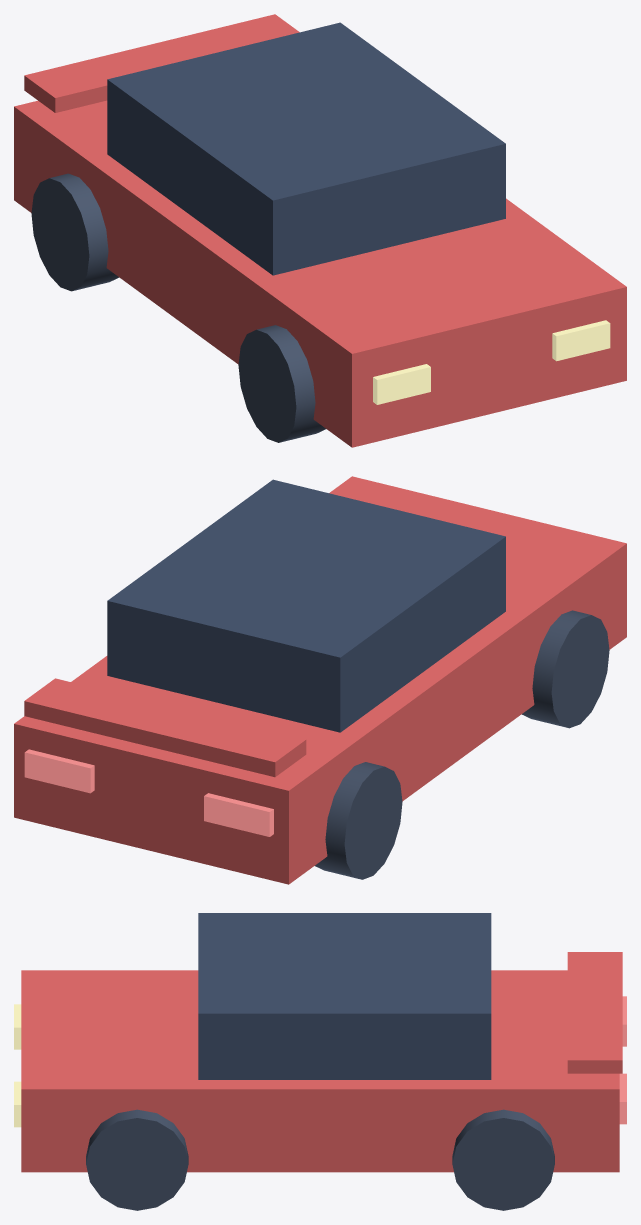
Rendered from car_2.glb.
The picture shows the model from 3 angles, top to bottom: view 1: azimuth 30°, elevation 25°; view 2: azimuth 150°, elevation 25°; view 3: azimuth 270°, elevation 25°; orthographic projection. The views are drawn at different scales.
Visible parts, largest first — view 1: chassis, cabin, spoiler, wheel_0, wheel_2, headlight_1, headlight_0; view 2: chassis, cabin, spoiler, wheel_2, wheel_0, taillight_1, taillight_0; view 3: chassis, cabin, wheel_1, wheel_3, spoiler.
Boxes of the visible parts, left/top/right/bottom form: chassis: left=14, top=100, right=626, bottom=447; cabin: left=107, top=22, right=505, bottom=275; spoiler: left=24, top=14, right=299, bottom=112; wheel_0: left=238, top=325, right=325, bottom=442; wheel_2: left=31, top=173, right=118, bottom=291; headlight_1: left=552, top=320, right=610, bottom=361; headlight_0: left=373, top=364, right=430, bottom=404; chassis: left=14, top=476, right=626, bottom=884; cabin: left=107, top=479, right=505, bottom=732; spoiler: left=24, top=678, right=306, bottom=777; wheel_2: left=315, top=762, right=402, bottom=879; wheel_0: left=522, top=610, right=609, bottom=728; taillight_1: left=24, top=749, right=94, bottom=793; taillight_0: left=204, top=793, right=273, bottom=836; chassis: left=21, top=970, right=619, bottom=1172; cabin: left=198, top=913, right=491, bottom=1079; wheel_1: left=86, top=1109, right=188, bottom=1210; wheel_3: left=452, top=1109, right=554, bottom=1210; spoiler: left=567, top=952, right=622, bottom=1073.
Bounding box in the file's own units: 2.62 × 1.62 × 5.02.
